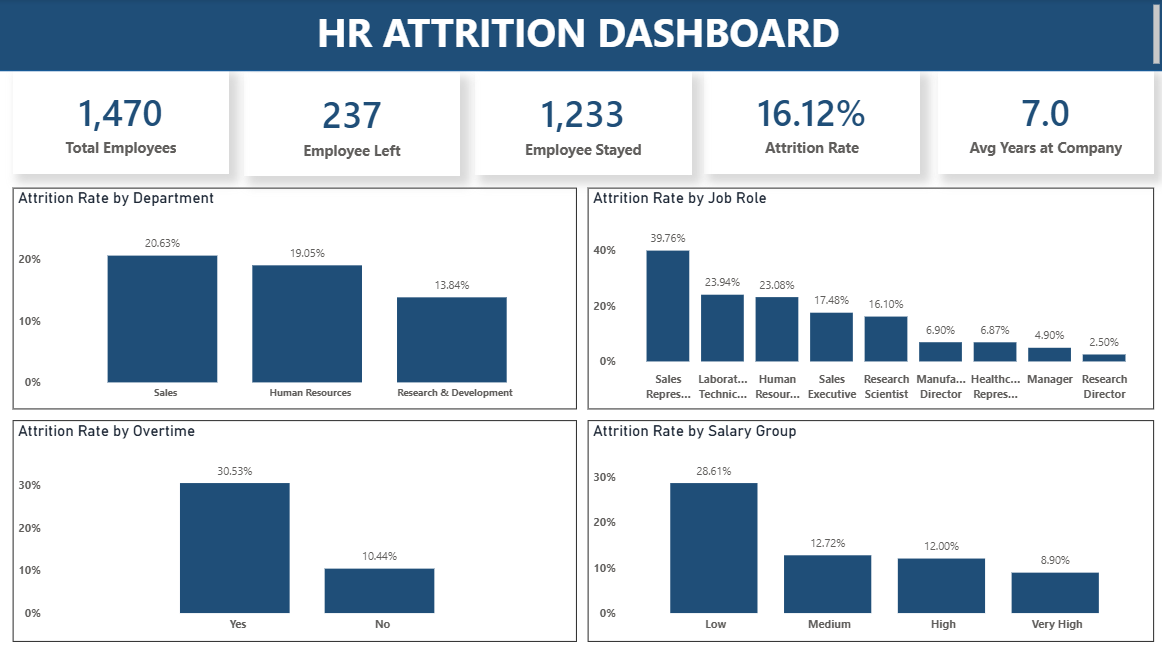

What the dashboard file says about the page in this screenshot:
{"tool":"powerbi","page":{"name":"HR Attrition Overview","canvas":[1280,720],"ordinal":0},"visuals":[{"type":"cardVisual","fields":{"Data":["public hr_employee.Total Employees"]},"box":[15.1,76.8,237.4,115.3],"z":0},{"type":"clusteredColumnChart","title":"Attrition Rate by Department","fields":{"Category":["public hr_employee.department"],"Y":["public hr_employee.Attririon Rate"]},"box":[15.1,207.2,618.9,242.9],"z":1000},{"type":"clusteredColumnChart","title":"Attrition Rate by Job Role","fields":{"Category":["public hr_employee.jobrole"],"Y":["public hr_employee.Attrition Rate"]},"box":[646.3,207.2,621.6,242.9],"z":2000},{"type":"cardVisual","fields":{"Data":["public hr_employee.Employee Left"]},"box":[269,81,237.4,113.9],"z":3000},{"type":"cardVisual","fields":{"Data":["public hr_employee.Employee Stayed"]},"box":[522.8,79.6,237.4,113.9],"z":4000},{"type":"cardVisual","fields":{"Data":["public hr_employee.Attririon Rate"]},"box":[773.9,78.2,237.4,113.9],"z":5000},{"type":"cardVisual","fields":{"Data":["public hr_employee.Average Years at Company"]},"box":[1030.5,76.8,237.4,115.3],"z":6000},{"type":"clusteredColumnChart","title":"Attrition Rate by Salary Group","fields":{"Y":["public hr_employee.Attrition Rate"],"Category":["public hr_employee.salary_group"]},"box":[646.3,462.4,621.6,242.9],"z":7000},{"type":"shape","box":[0,0,1280.3,79.6],"z":8000},{"type":"textbox","box":[0,1.4,1280.3,79.6],"z":9000},{"type":"clusteredColumnChart","title":"Attrition Rate by Overtime","fields":{"Y":["public hr_employee.Attririon Rate"],"Category":["public hr_employee.overtime"]},"box":[15.1,462.4,618.9,242.9],"z":10000}]}

Visuals, with their boxes in screenshot pixels (x1, y1, x2, y2), scaled from the page's 1280x720 canvas onto the 1162x655 screenshot:
cardVisual - public hr_employee.Total Employees: pyautogui.locateOnScreen(14, 70, 229, 175)
"Attrition Rate by Department" clusteredColumnChart: pyautogui.locateOnScreen(14, 188, 576, 409)
"Attrition Rate by Job Role" clusteredColumnChart: pyautogui.locateOnScreen(587, 188, 1151, 409)
cardVisual - public hr_employee.Employee Left: pyautogui.locateOnScreen(244, 74, 460, 177)
cardVisual - public hr_employee.Employee Stayed: pyautogui.locateOnScreen(475, 72, 690, 176)
cardVisual - public hr_employee.Attririon Rate: pyautogui.locateOnScreen(703, 71, 918, 175)
cardVisual - public hr_employee.Average Years at Company: pyautogui.locateOnScreen(936, 70, 1151, 175)
"Attrition Rate by Salary Group" clusteredColumnChart: pyautogui.locateOnScreen(587, 421, 1151, 642)
shape: pyautogui.locateOnScreen(0, 0, 1161, 72)
textbox: pyautogui.locateOnScreen(0, 1, 1161, 74)
"Attrition Rate by Overtime" clusteredColumnChart: pyautogui.locateOnScreen(14, 421, 576, 642)
